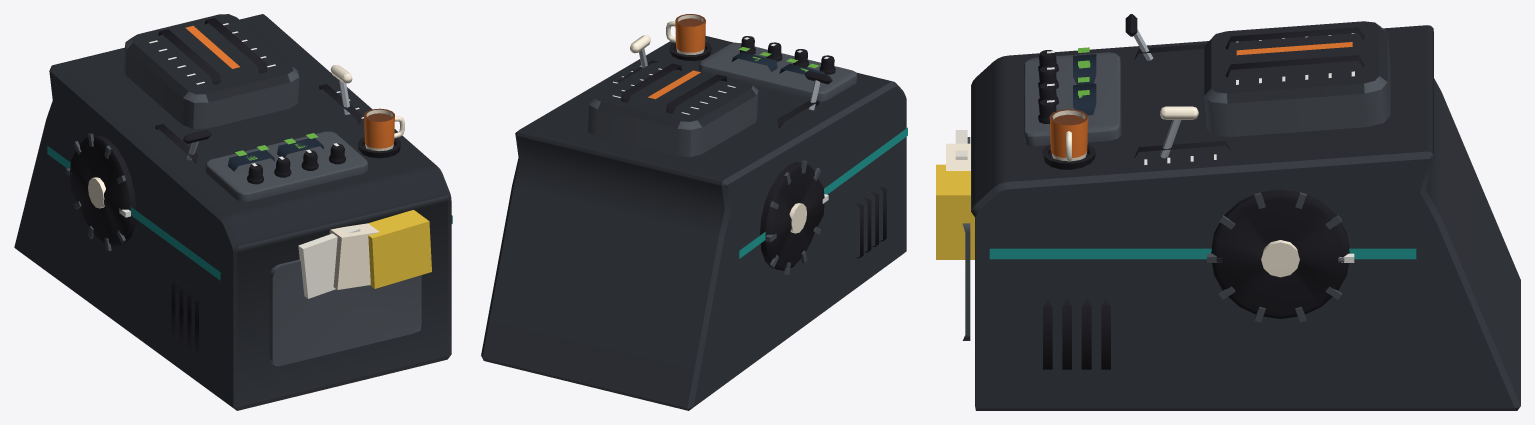
Rendered from CabinaGases.fbx.
3 views of the same model, side by side, from view 1: azimuth 30°, elevation 25°; view 2: azimuth 150°, elevation 25°; view 3: azimuth 270°, elevation 25° (orthographic). The views are drawn at different scales.
Visible parts, largest first — view 1: CabinaGases; view 2: CabinaGases; view 3: CabinaGases.
Boxes of the visible parts, x1,y1,x2,y2 form: CabinaGases: [14, 14, 452, 410]; CabinaGases: [481, 14, 907, 410]; CabinaGases: [936, 14, 1520, 410].
Size of the model in its own units: 1.8 by 1.73 by 3.02.
1 material, 1 textured.
